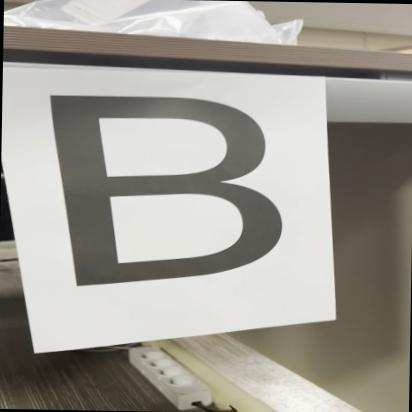seat: (30, 82, 319, 302)
